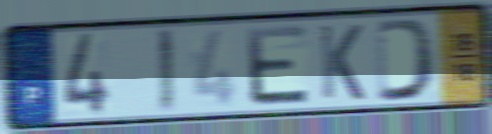4: (60, 30, 113, 119), (189, 25, 241, 111)
D: (373, 16, 440, 104)
E: (243, 22, 313, 109)
I: (154, 26, 178, 116)
K: (316, 22, 368, 103)
